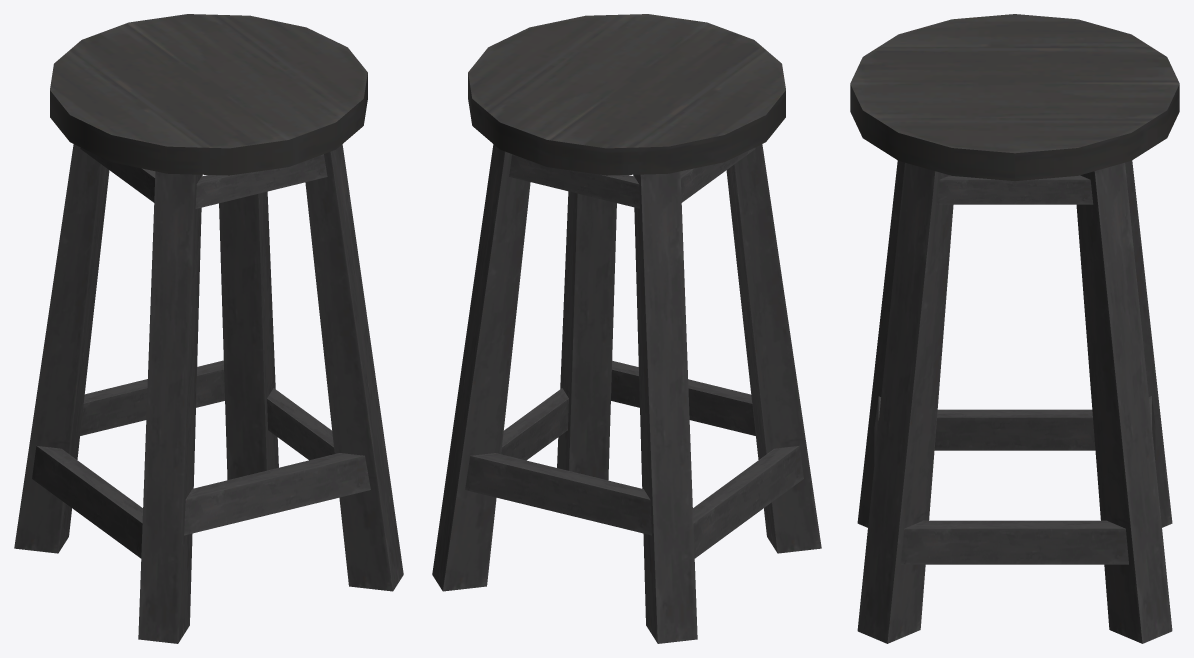
File: Homeworld_Interior_Dq_Chair_Chair_01_Vo.fbx
3 views of the same model, side by side, from view 1: azimuth 30°, elevation 25°; view 2: azimuth 150°, elevation 25°; view 3: azimuth 270°, elevation 25° (orthographic). The views are drawn at different scales.
Parts seen in each view (by area): view 1: Indoor_Dq_Prop_Comp_Chair_01_Vo; view 2: Indoor_Dq_Prop_Comp_Chair_01_Vo; view 3: Indoor_Dq_Prop_Comp_Chair_01_Vo.
Part boxes in pixels (x1,y1,x2,y2): Indoor_Dq_Prop_Comp_Chair_01_Vo: [14, 14, 403, 643]; Indoor_Dq_Prop_Comp_Chair_01_Vo: [432, 14, 821, 643]; Indoor_Dq_Prop_Comp_Chair_01_Vo: [850, 14, 1179, 643].
Size of the model in its own units: 0.484 by 0.8 by 0.484.
Materials: 1 (1 with a texture image).
